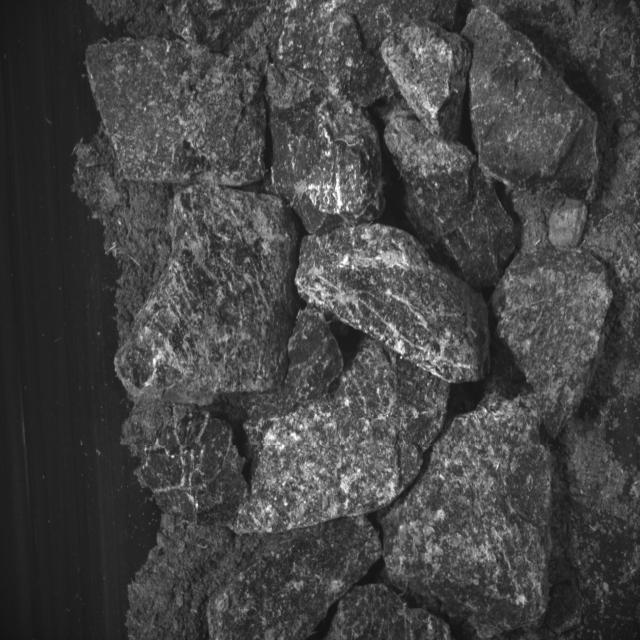Stones: (236, 340, 450, 534), (382, 397, 552, 639), (116, 186, 299, 404), (296, 224, 491, 384), (87, 39, 267, 188), (464, 7, 599, 197), (385, 112, 516, 291), (492, 248, 614, 438), (209, 517, 382, 640), (271, 98, 386, 235), (124, 401, 247, 526), (275, 1, 394, 107), (382, 23, 472, 140), (327, 585, 451, 640), (286, 308, 344, 403), (267, 64, 317, 112)
